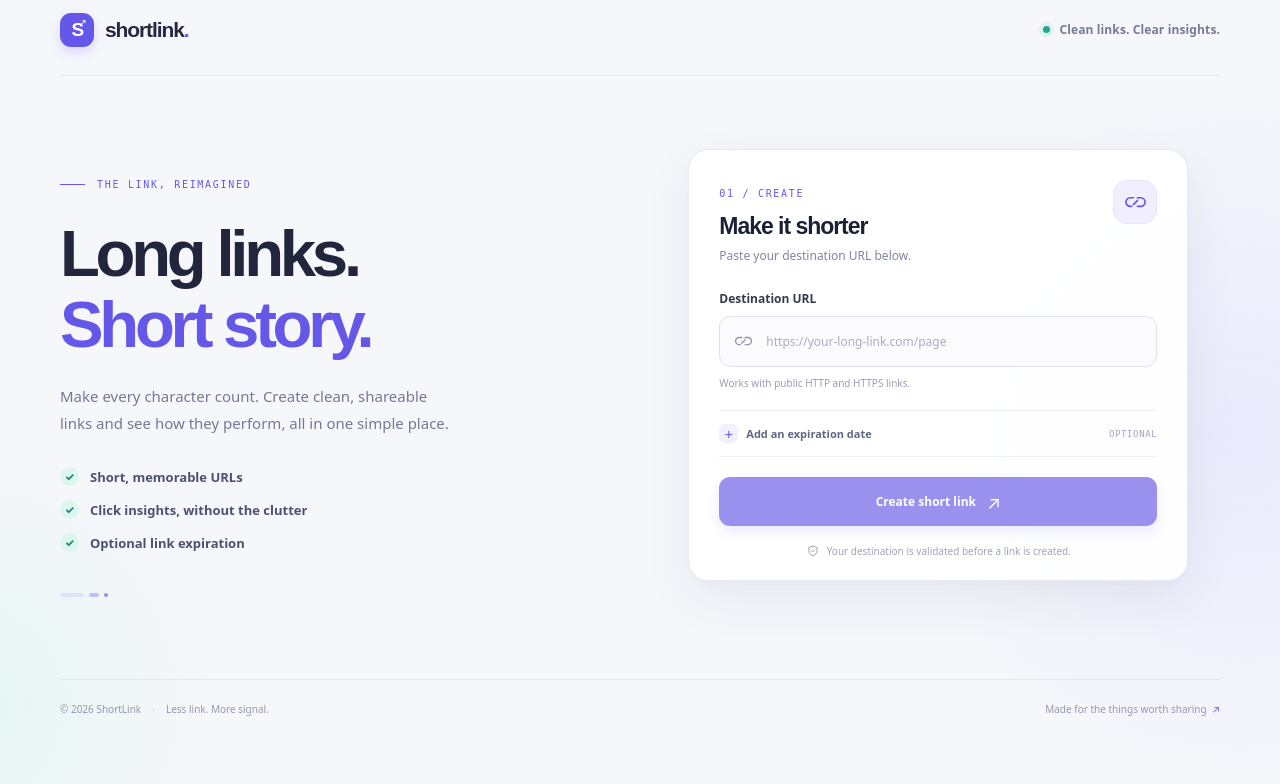
Test case: HomePage › creates a short link and renders persisted analytics
Type "https://example.com/path" into the field labelled "Destination URL" at (953, 342), box [764, 332, 1142, 351]
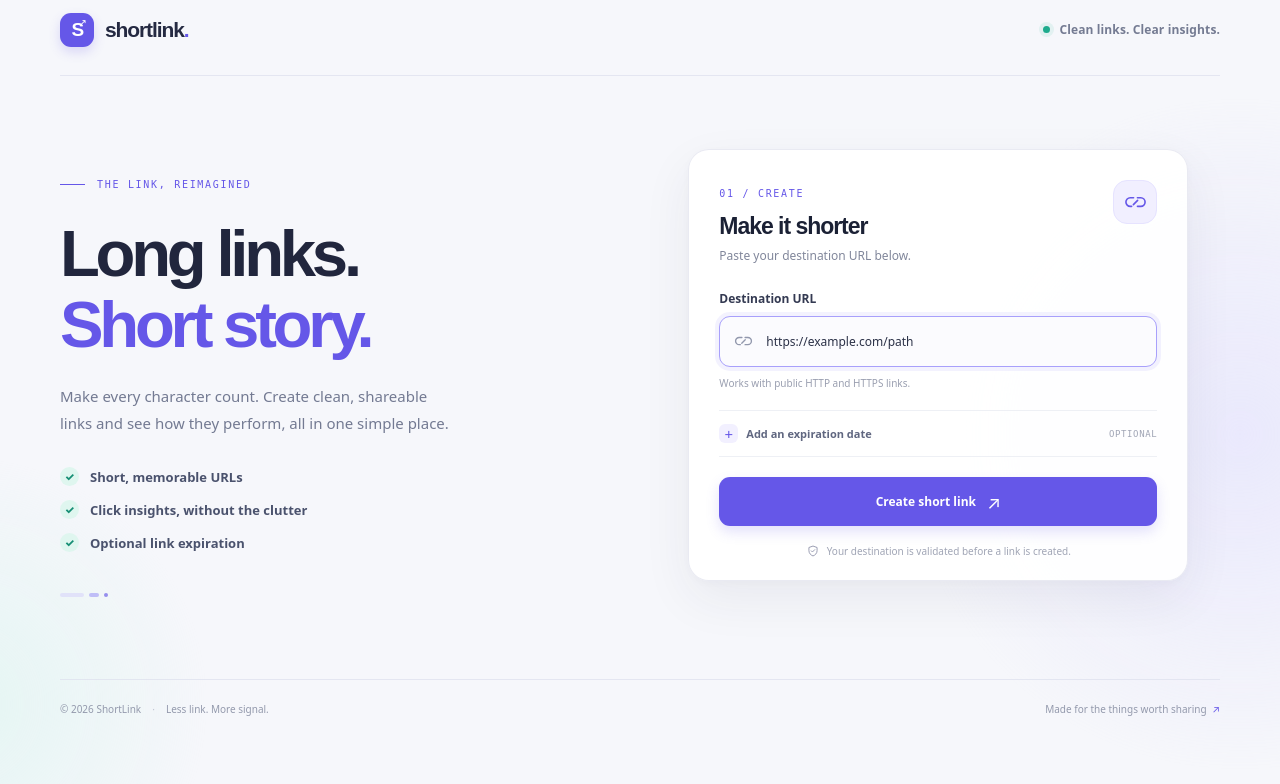
Click the button "Create short link ↗" at (938, 502), box [719, 477, 1157, 526]
(page scrolled)
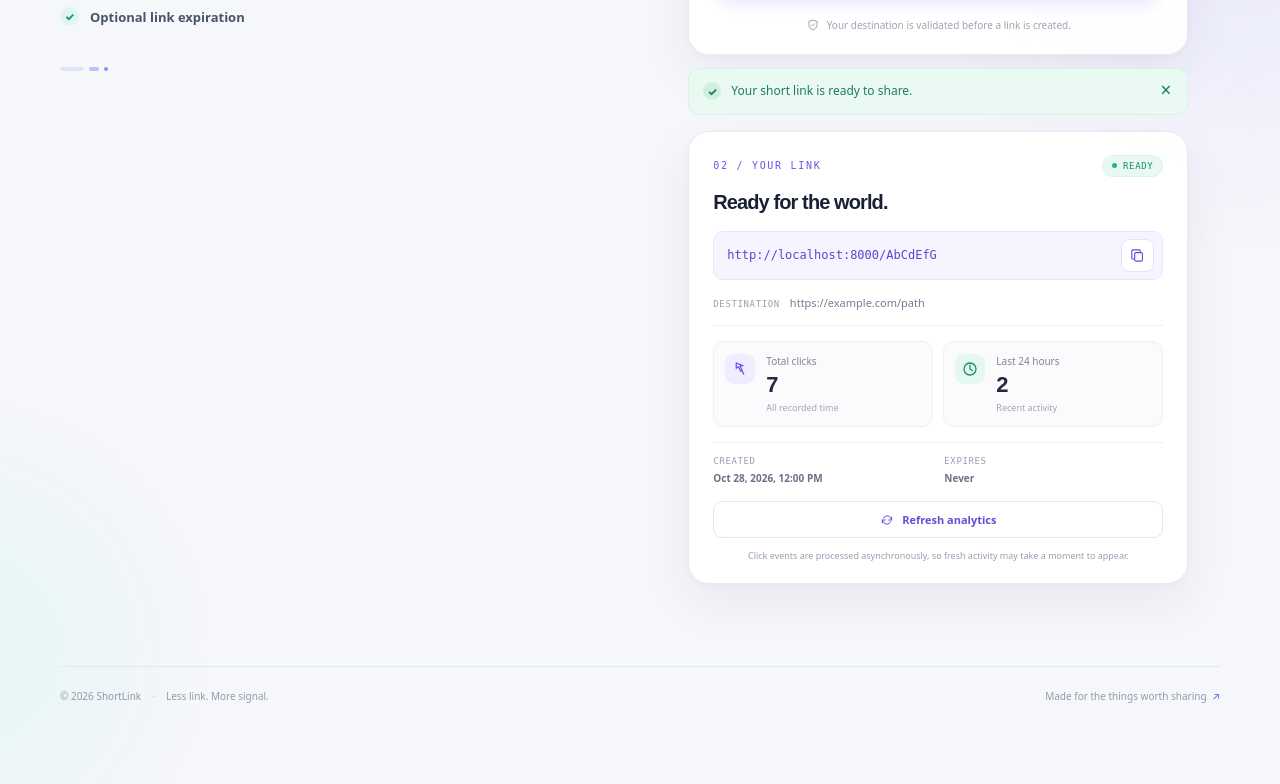
Now the link "http://localhost:8000/AbCdEfG" is shown, box [727, 246, 937, 264]
Now the text "7" is shown, box [766, 372, 777, 397]
Now the text "2" is shown, box [996, 372, 1007, 397]
